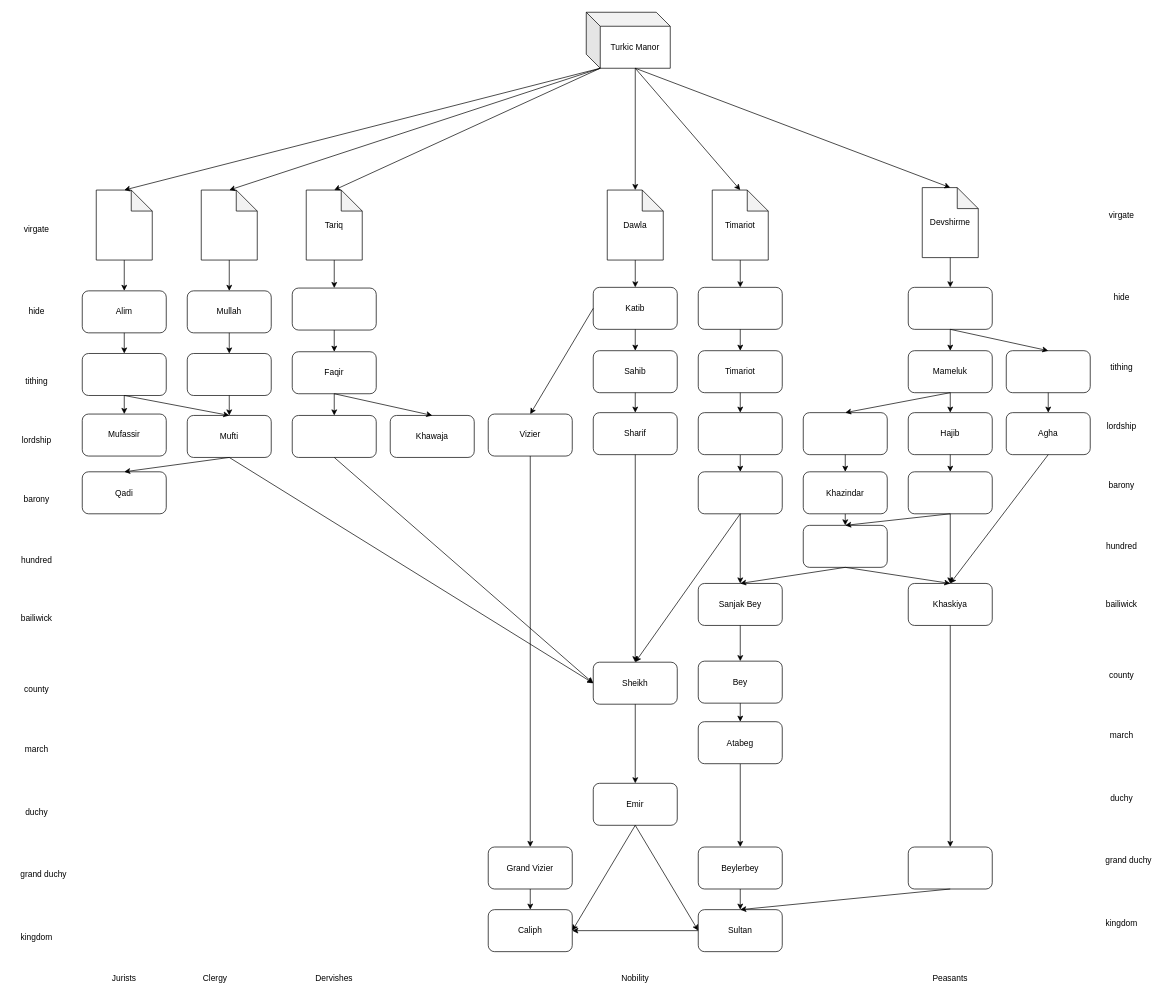
Some shapes in this 1172 by 998 pixel diagram are drawn without their labels. The box of each missing label's shape, as (x1, y1, x2, y2) in pixels:
Dervish: (292, 287, 376, 330)
Din: (201, 189, 257, 260)
Faqih: (82, 353, 166, 396)
Ghilman: (908, 287, 992, 329)
Imam: (187, 353, 271, 396)
Janissary: (1006, 350, 1090, 393)
Mashrif: (803, 412, 887, 455)
Mohtaseb: (908, 471, 992, 514)
Murshid: (292, 415, 376, 457)
Pasha: (908, 846, 992, 889)
Sipahi: (698, 287, 782, 329)
Soubashi: (698, 412, 782, 455)
Tafsir: (96, 189, 152, 260)
Ustadar: (803, 525, 887, 567)
Wali: (698, 471, 782, 514)
